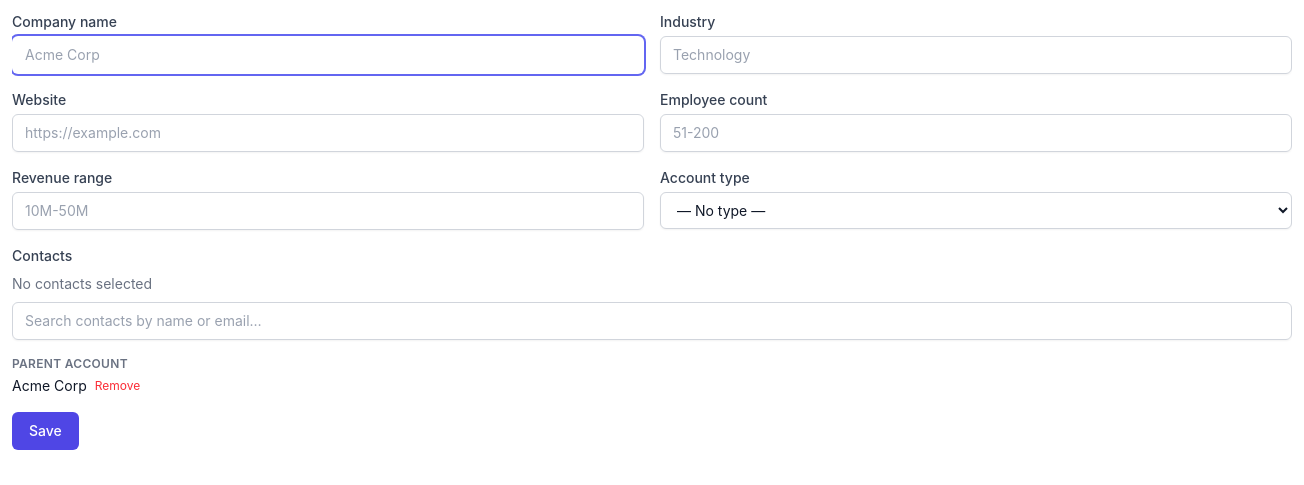
Scenario: AccountForm › parent account type-ahead › clears the selected parent when the clear button is clicked
This screenshot has width=1304, height=485.
What coordinates should you click on to do the following:
click the button with test id "account-parent-clear"
I would click on:
 (117, 386)
Its box is [95, 378, 140, 394].
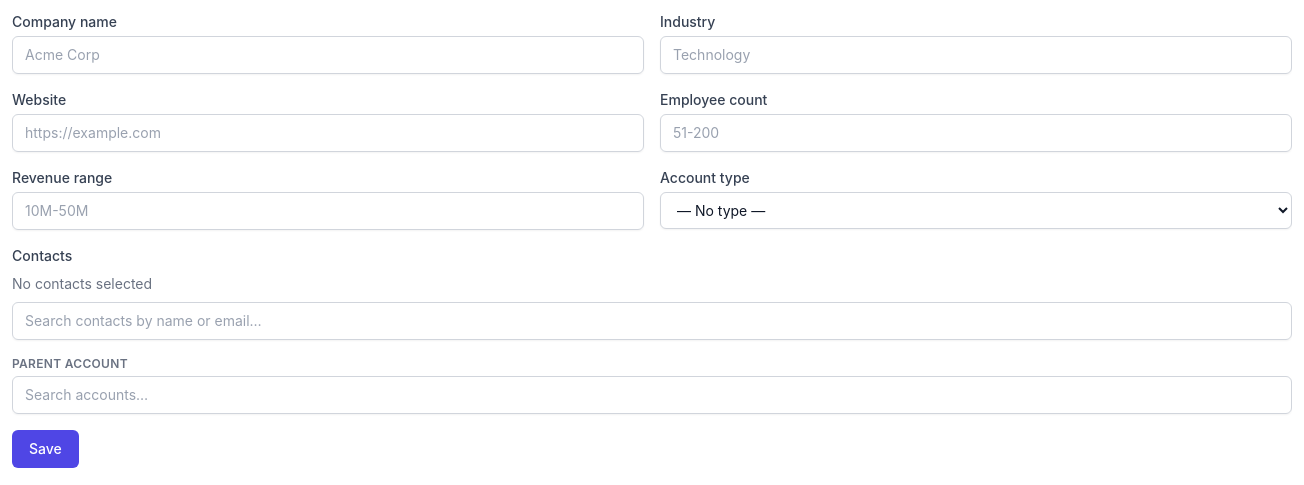
Now the text with test id "account-parent-selected-name" is gone
Now the field with test id "account-parent-search" is shown, box [12, 376, 1292, 414]
